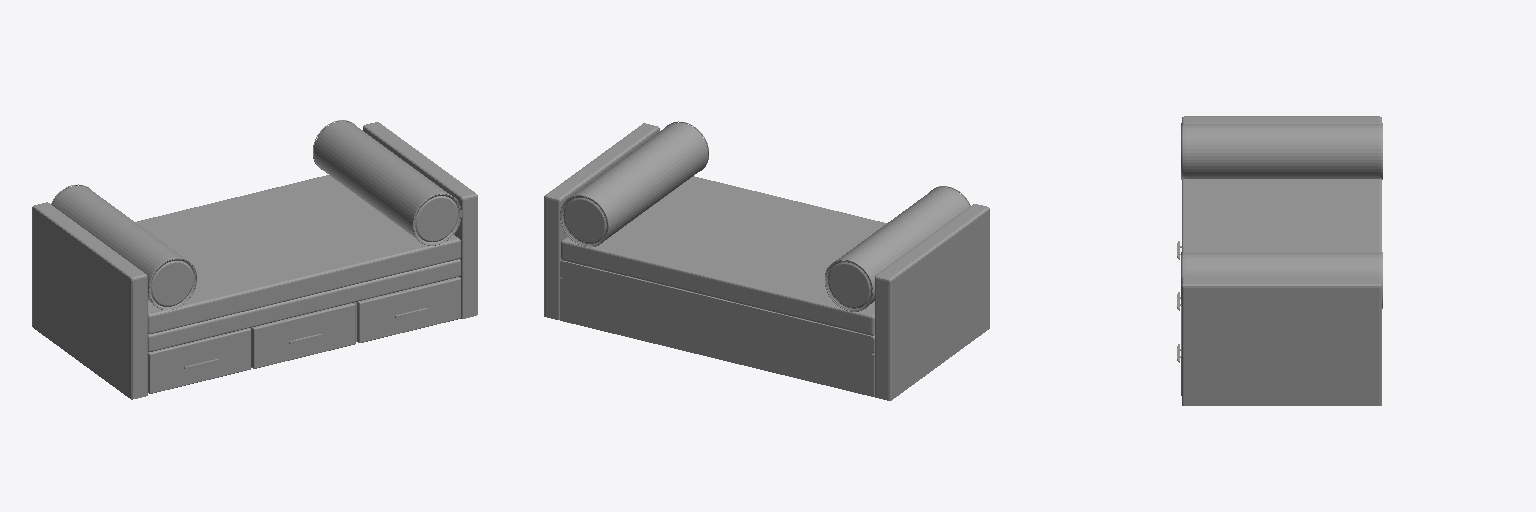
File: bedsofa.obj
The picture shows the model from 3 angles: view 1: azimuth 30°, elevation 25°; view 2: azimuth 150°, elevation 25°; view 3: azimuth 270°, elevation 25°; orthographic projection.
Parts seen in each view (by area): view 1: Box005, Box001, Cylinder011, Cylinder012, Box003, Box007, Box008, Box006, Box012; view 2: Box005, Box001, Box002, Cylinder011, Cylinder012, Box003, Box012; view 3: Box012, Box005, Cylinder012, Cylinder011, Box001.
Part boxes in pixels (bbox=[...]): Box005: bbox=[136, 175, 460, 334]; Box001: bbox=[32, 202, 147, 399]; Cylinder011: bbox=[313, 120, 461, 245]; Cylinder012: bbox=[51, 184, 196, 309]; Box003: bbox=[148, 259, 460, 351]; Box007: bbox=[251, 303, 355, 368]; Box008: bbox=[357, 277, 460, 342]; Box006: bbox=[148, 328, 250, 393]; Box012: bbox=[363, 122, 477, 318]; Box005: bbox=[561, 176, 886, 335]; Box001: bbox=[875, 204, 989, 400]; Box002: bbox=[560, 278, 874, 396]; Cylinder011: bbox=[560, 121, 708, 247]; Cylinder012: bbox=[825, 186, 970, 311]; Box003: bbox=[560, 260, 874, 353]; Box012: bbox=[544, 123, 659, 319]; Box012: bbox=[1182, 278, 1381, 405]; Box005: bbox=[1182, 179, 1381, 252]; Cylinder012: bbox=[1181, 123, 1382, 179]; Cylinder011: bbox=[1181, 252, 1382, 308]; Box001: bbox=[1182, 116, 1381, 123].
Bounding box in the file's own units: 71.99 × 26.01 × 36.94.